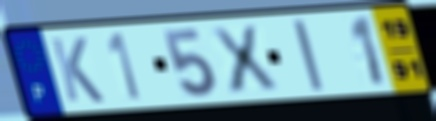1: (346, 14, 387, 90), (105, 30, 144, 103)
5: (160, 26, 220, 100)
I: (288, 17, 327, 94)
K: (47, 35, 107, 105)
X: (206, 23, 282, 96)
